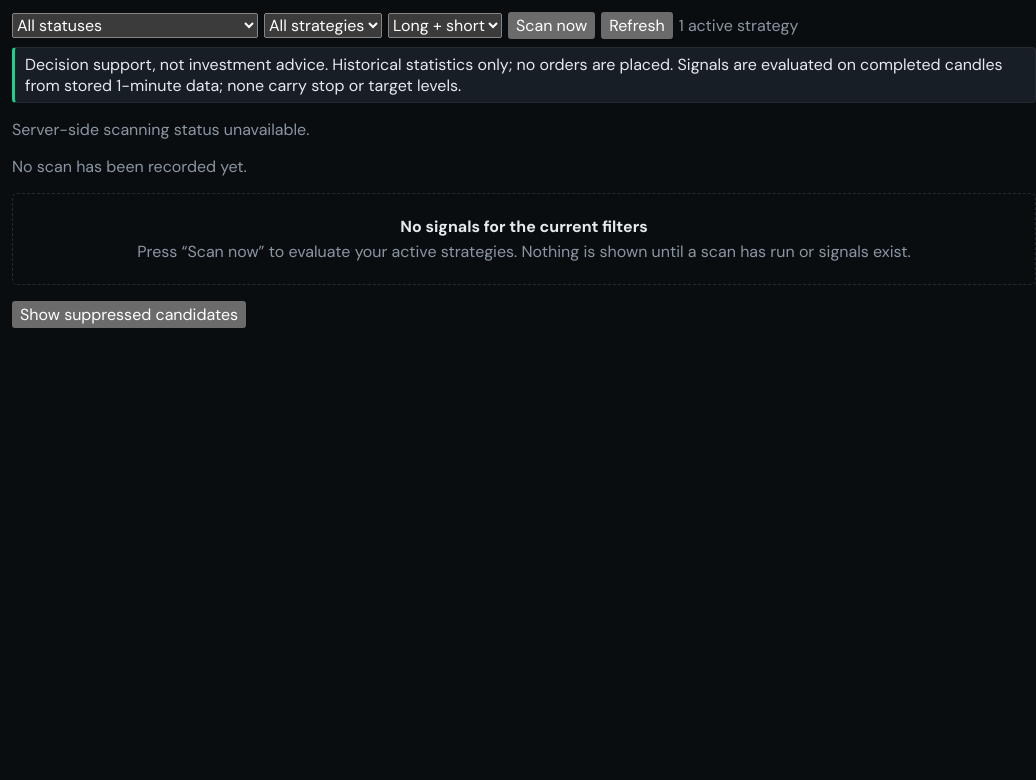
Test case: rejections view › shows a visible failure path with retry instead of an endless spinner
The width and height of the screenshot is (1036, 780).
Click the button "Show suppressed candidates" at coordinates (129, 314), box top-left (12, 301), bottom-right (246, 328)
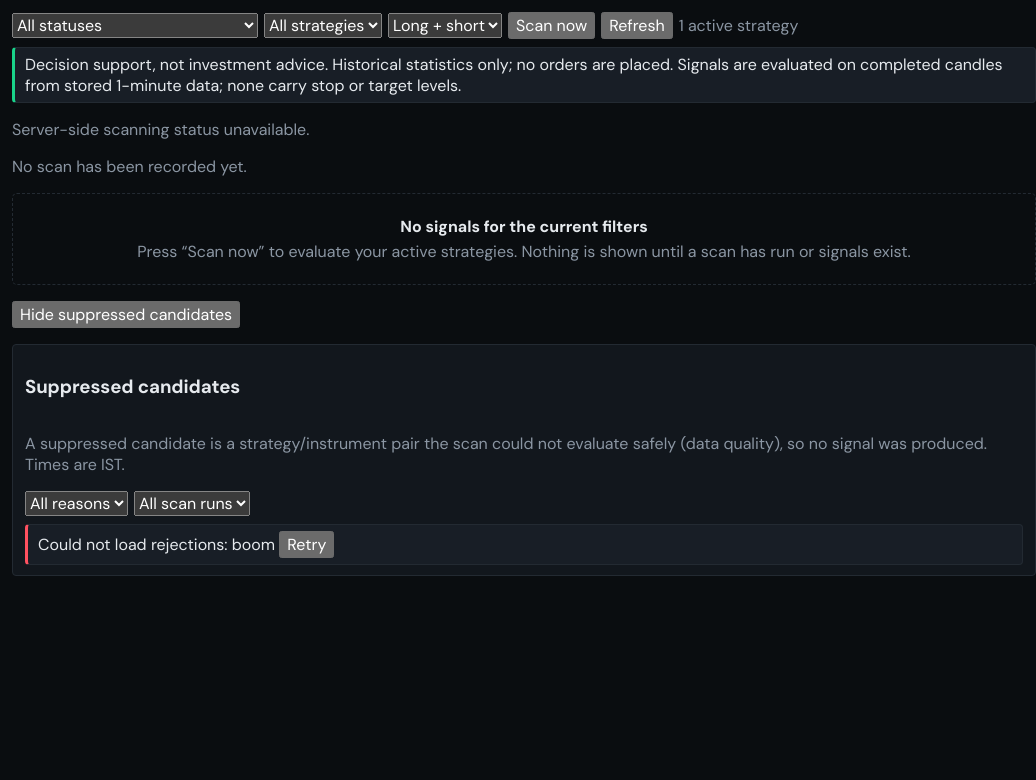
Expected: the text "Could not load rejections: boom Retry" is shown, top-left (25, 524), bottom-right (1023, 565)
Expected: the button "Retry" is shown, top-left (279, 531), bottom-right (334, 558)
